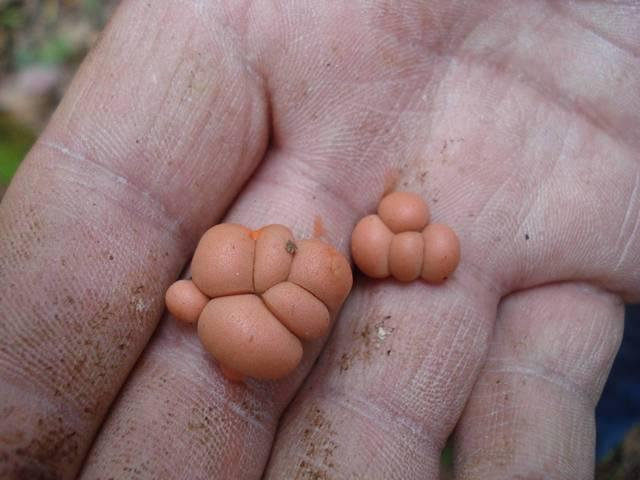poisonous_mushroom: (0, 0, 639, 479), (164, 221, 353, 383), (349, 189, 461, 284)
